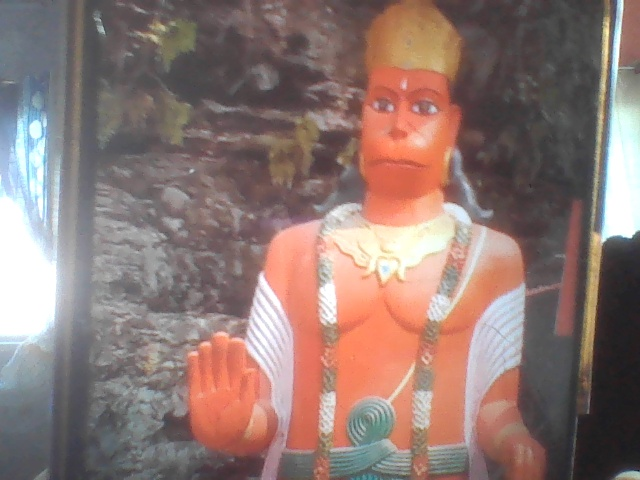fake: (349, 7, 484, 199)
